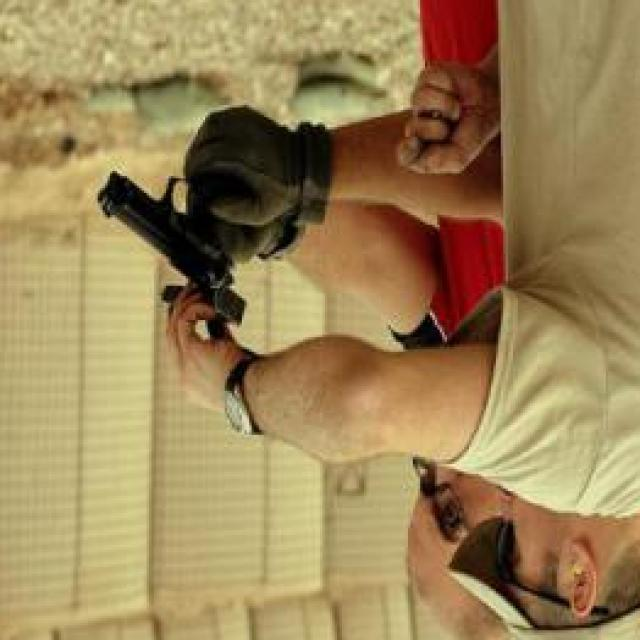pistol: (100, 149, 236, 305)
